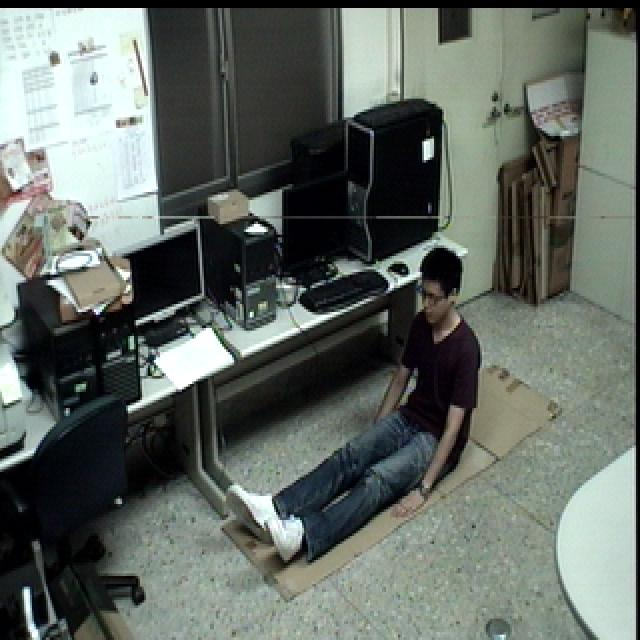sit: (218, 241, 492, 578)
